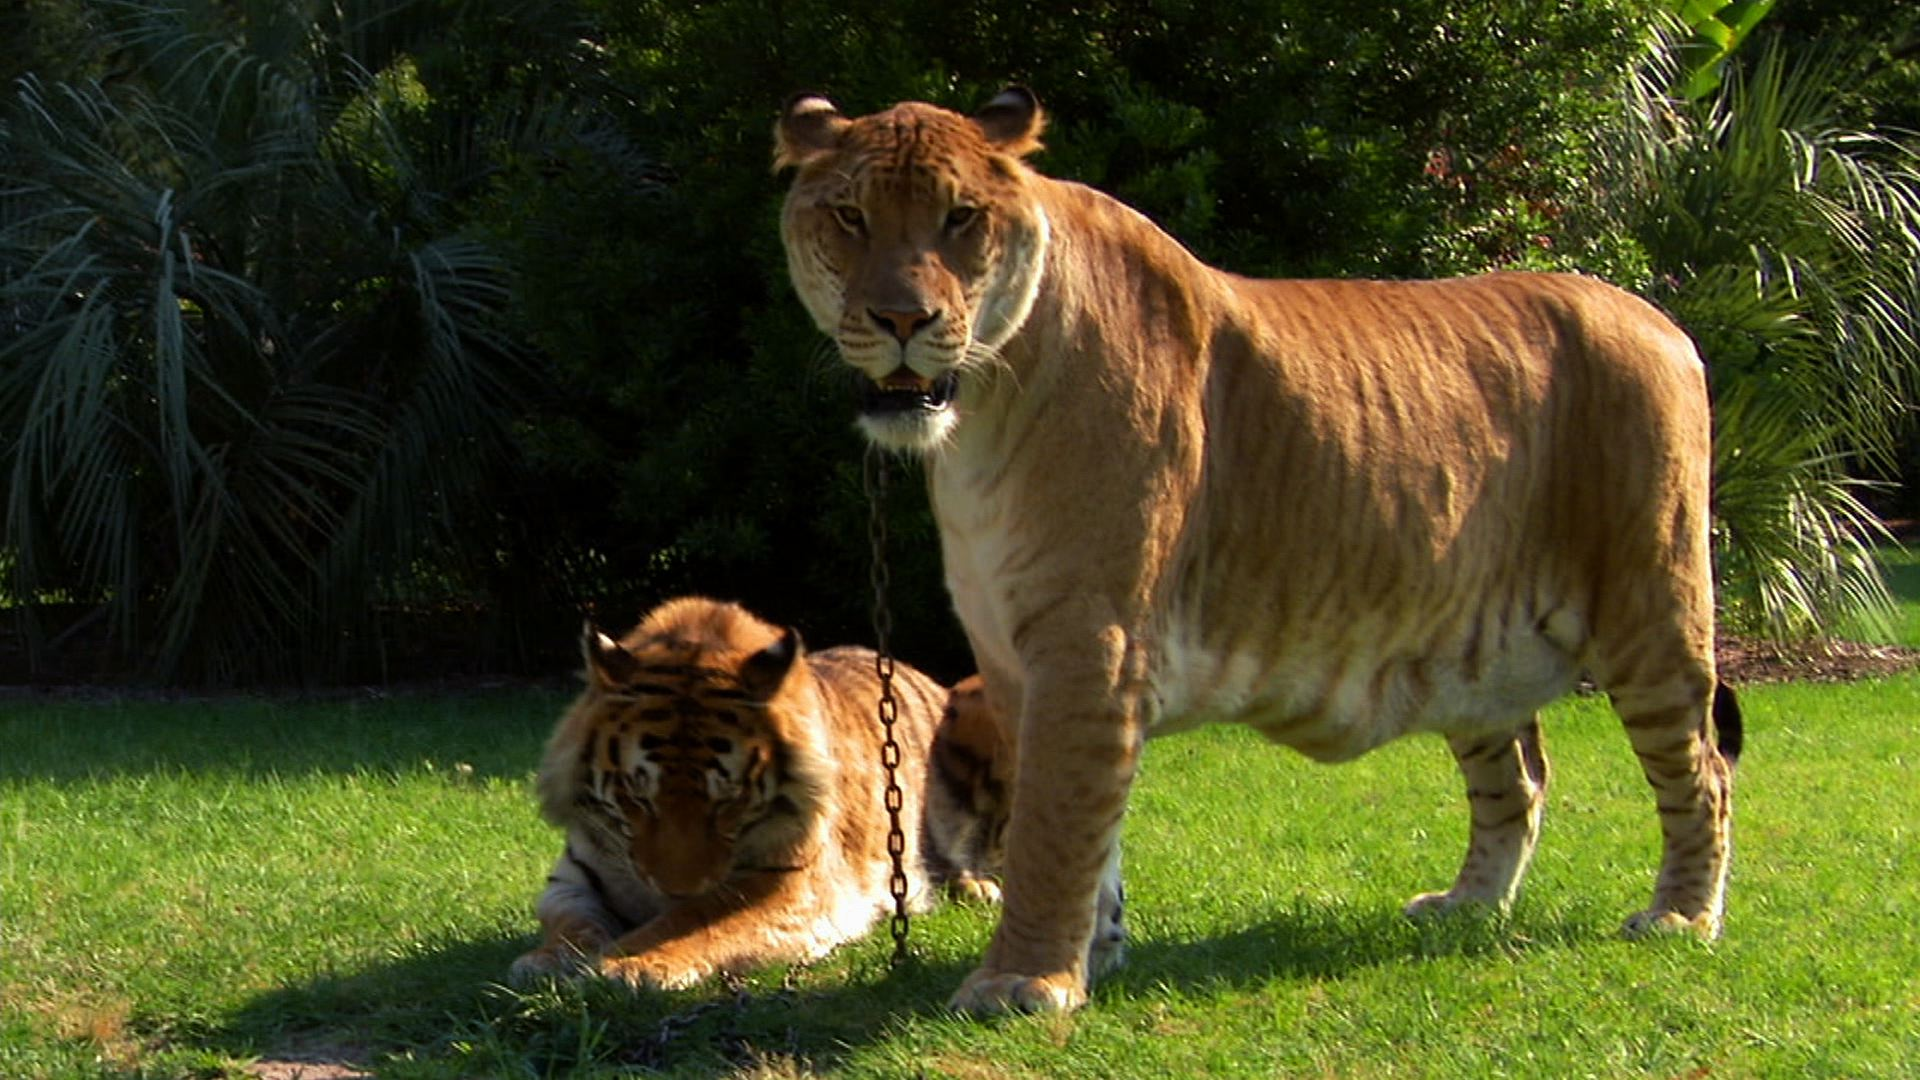tiger: (771, 82, 1735, 1000), (524, 567, 1002, 985)
